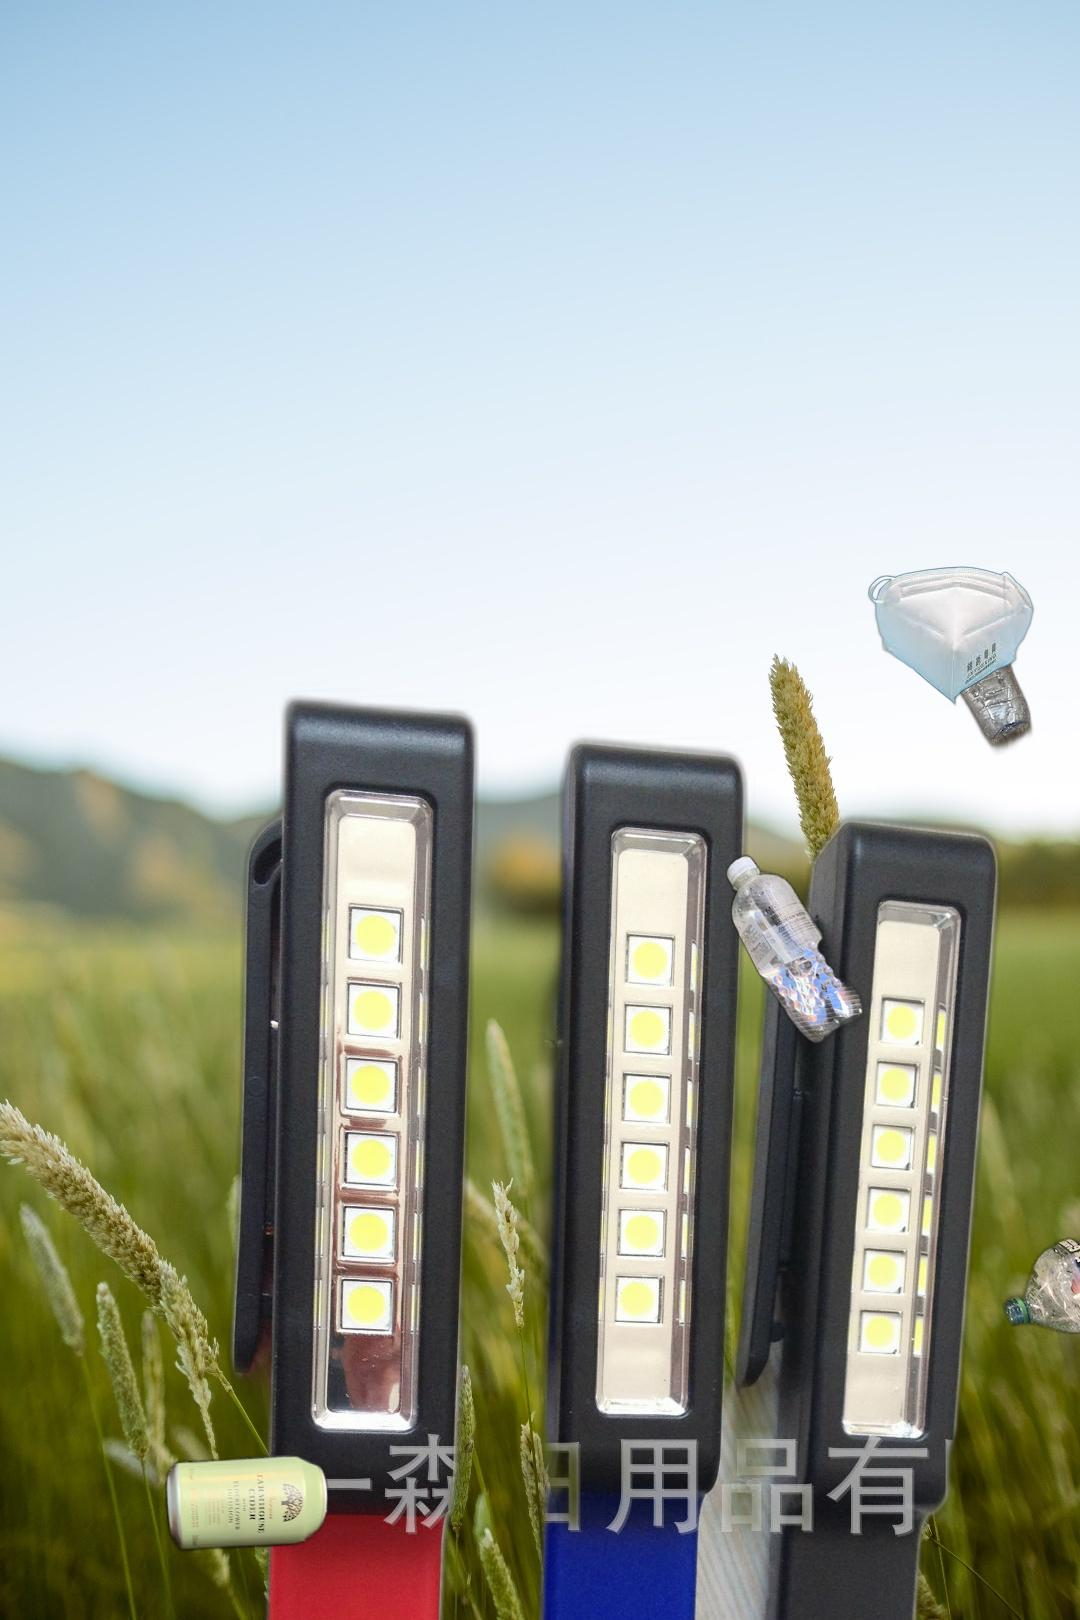metal-cans: (162, 1449, 331, 1557)
penholder: (219, 682, 1012, 1620), (865, 286, 1080, 1620)
plastic-bottles: (721, 850, 890, 1237), (999, 1160, 1080, 1620), (918, 585, 1035, 757)
trash: (865, 564, 1035, 709)
